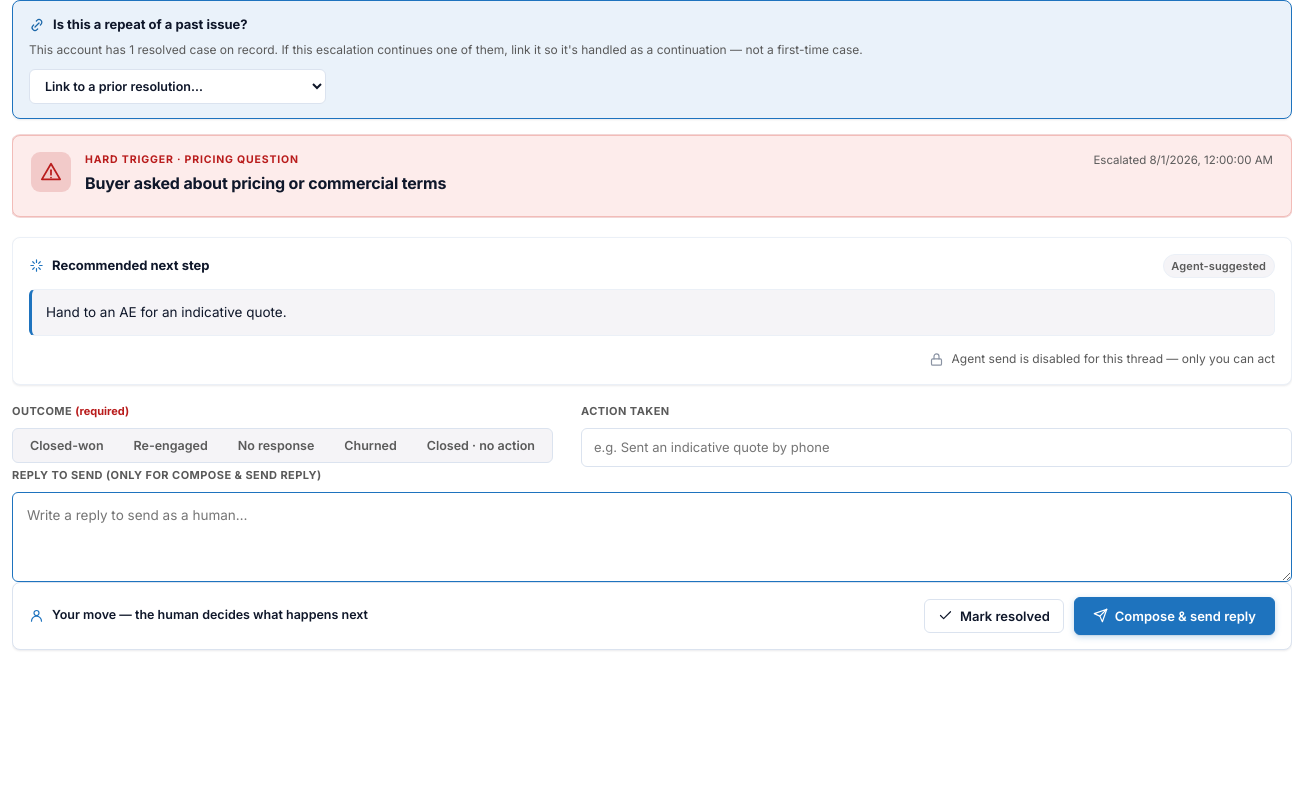
it: EscalationPanel › requires a reply body before composing and sending
Click the button "Re-engaged": (171, 445) [120,432,222,459]
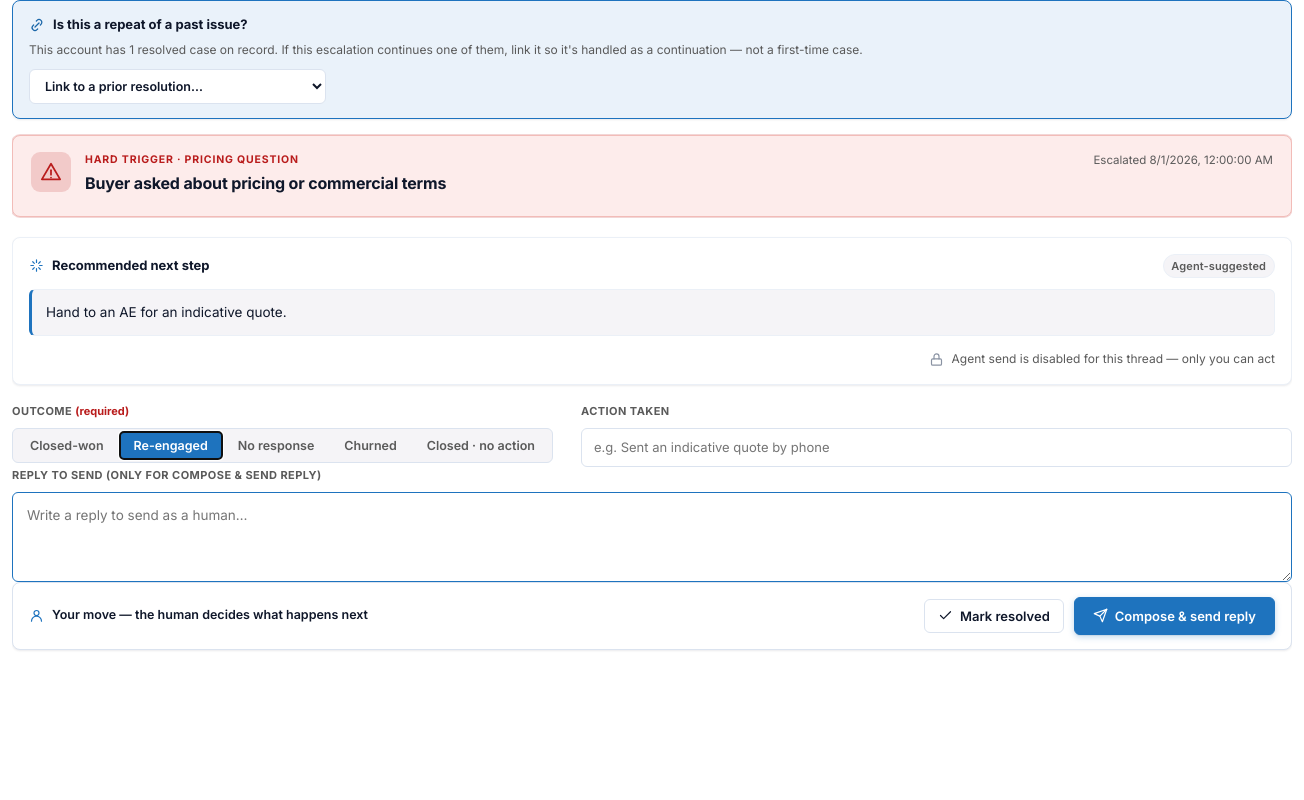
Click the button "Compose & send reply": (1174, 616) [1074,597,1275,635]
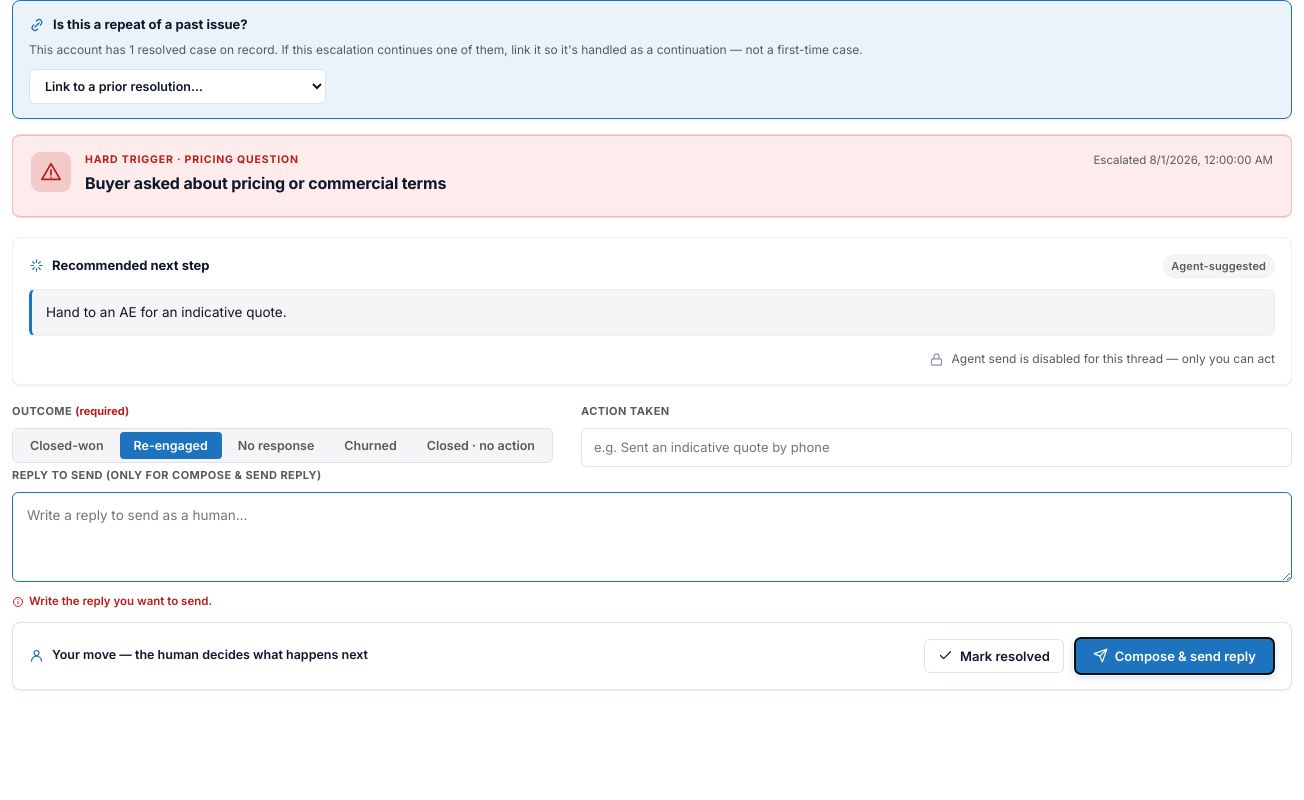
Expected: the text "Write the reply you want to send." is shown, [12,593,212,610]
